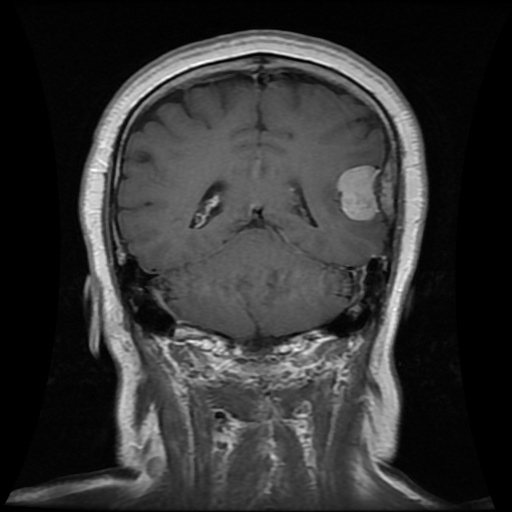meningioma: (335, 163, 380, 221)
